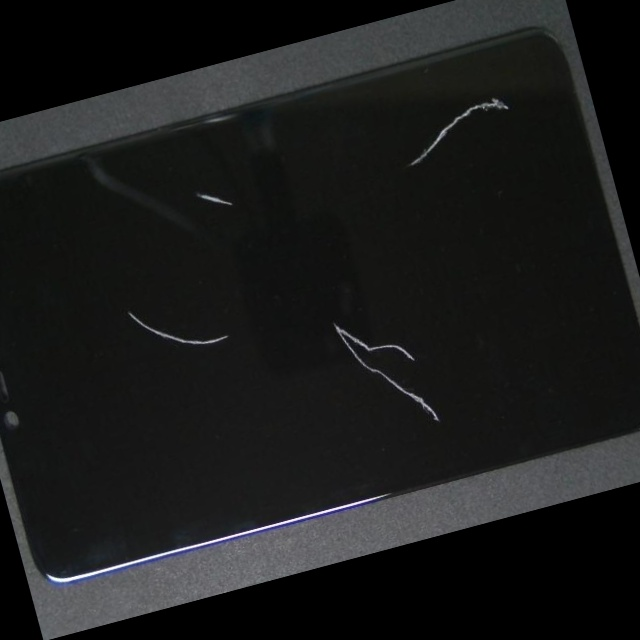scratch: (229, 183, 640, 530), (63, 115, 407, 328), (245, 39, 599, 212), (149, 203, 356, 443)
